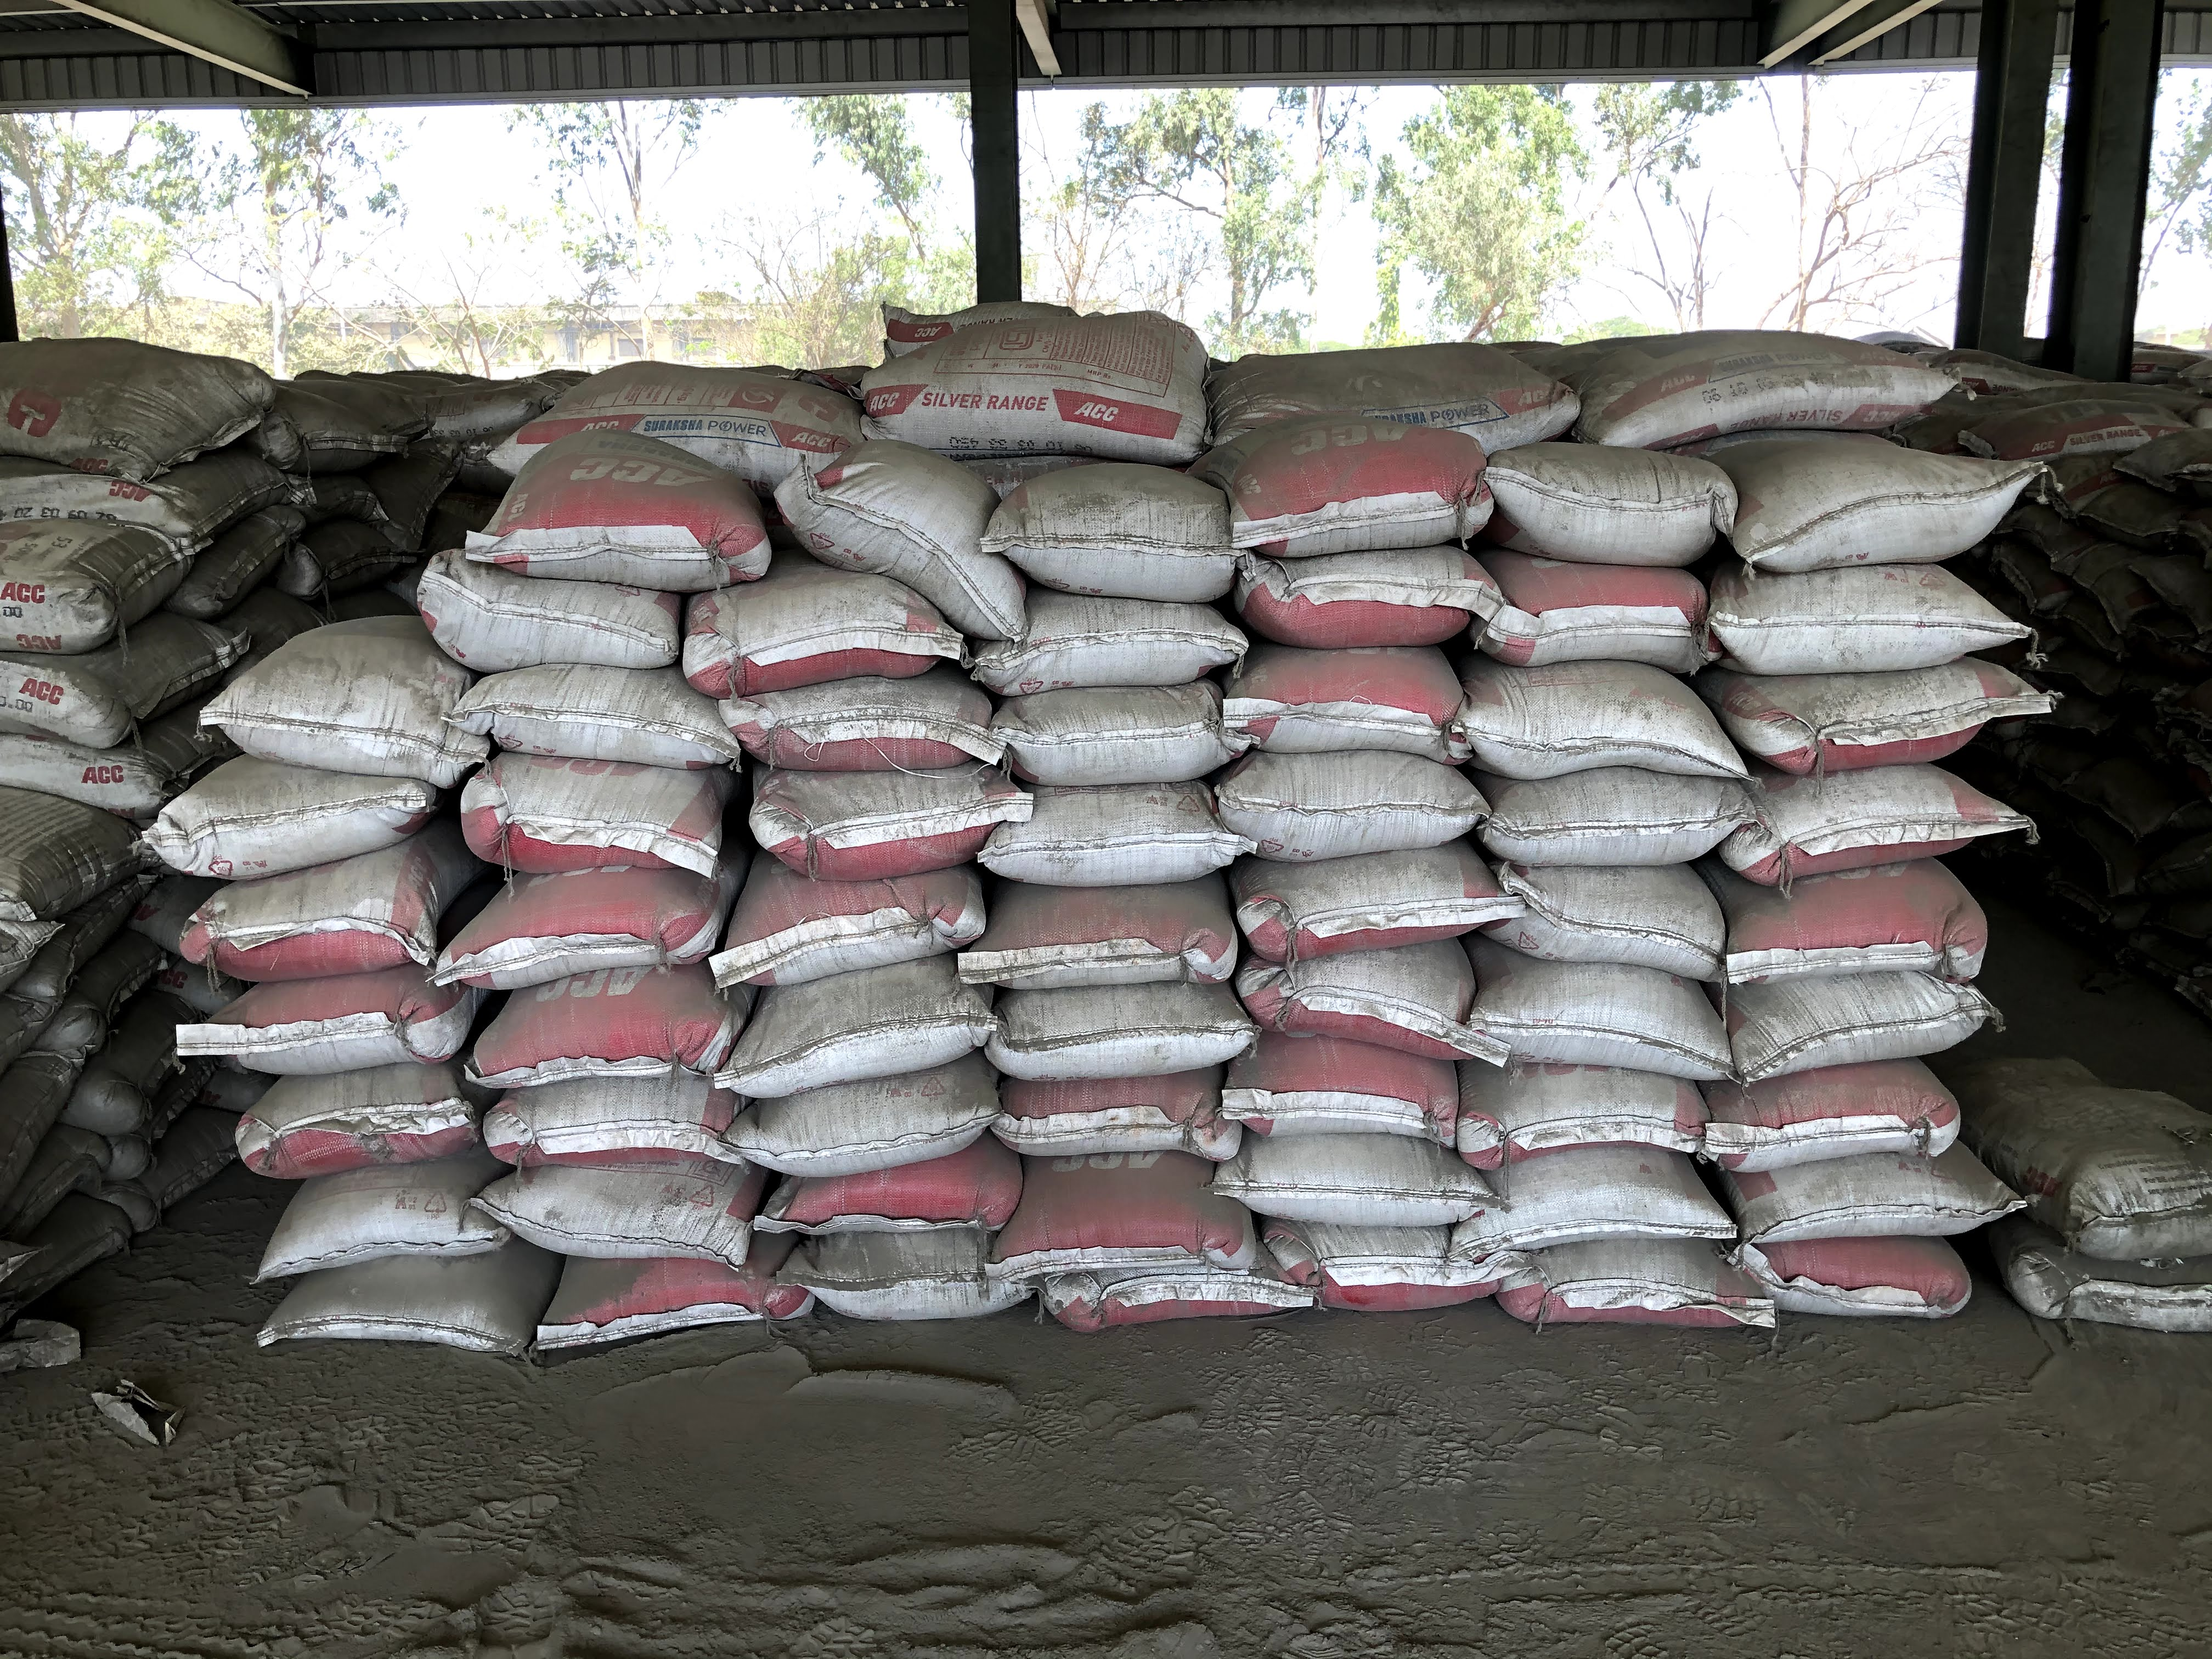cement bag: (874, 326, 1200, 469), (1749, 559, 2045, 688), (221, 622, 470, 760), (495, 444, 745, 579), (1766, 755, 2020, 884), (1467, 680, 1752, 793), (732, 852, 995, 972), (444, 871, 718, 981), (188, 843, 411, 976), (444, 981, 723, 1080), (446, 551, 665, 676), (1005, 460, 1233, 580), (1763, 464, 2045, 559), (1496, 464, 1763, 565), (1000, 1162, 1231, 1277), (1252, 403, 1472, 521), (1482, 880, 1730, 985), (747, 1051, 972, 1166), (1228, 732, 1444, 850), (1258, 932, 1482, 1044), (1005, 580, 1233, 690), (732, 660, 951, 774), (1771, 985, 2005, 1091), (1491, 1166, 1771, 1253), (1766, 884, 2005, 985), (489, 1162, 740, 1258), (482, 770, 718, 871), (225, 1171, 484, 1262), (1258, 521, 1472, 627), (225, 1063, 430, 1171), (1242, 1033, 1453, 1138), (998, 985, 1223, 1082), (732, 774, 995, 852), (1008, 784, 1205, 889), (1008, 889, 1223, 985), (211, 971, 430, 1063), (747, 1166, 1000, 1244), (779, 1244, 1000, 1333), (1258, 627, 1444, 732), (489, 1080, 723, 1162), (1482, 985, 1691, 1075), (1496, 565, 1705, 655), (732, 972, 972, 1051), (1005, 690, 1205, 784), (998, 1082, 1231, 1162), (1491, 1075, 1691, 1166), (1777, 1152, 1977, 1243), (1749, 688, 2020, 755), (521, 1258, 740, 1340), (1501, 789, 1738, 864), (709, 589, 951, 660), (260, 1262, 484, 1338), (1515, 1253, 1771, 1319), (1242, 1138, 1453, 1218), (460, 676, 665, 756), (174, 779, 411, 843), (1777, 1243, 1979, 1314), (1280, 866, 1482, 932), (1075, 1267, 1318, 1321), (1771, 1091, 1977, 1152), (1348, 1263, 1515, 1319)
